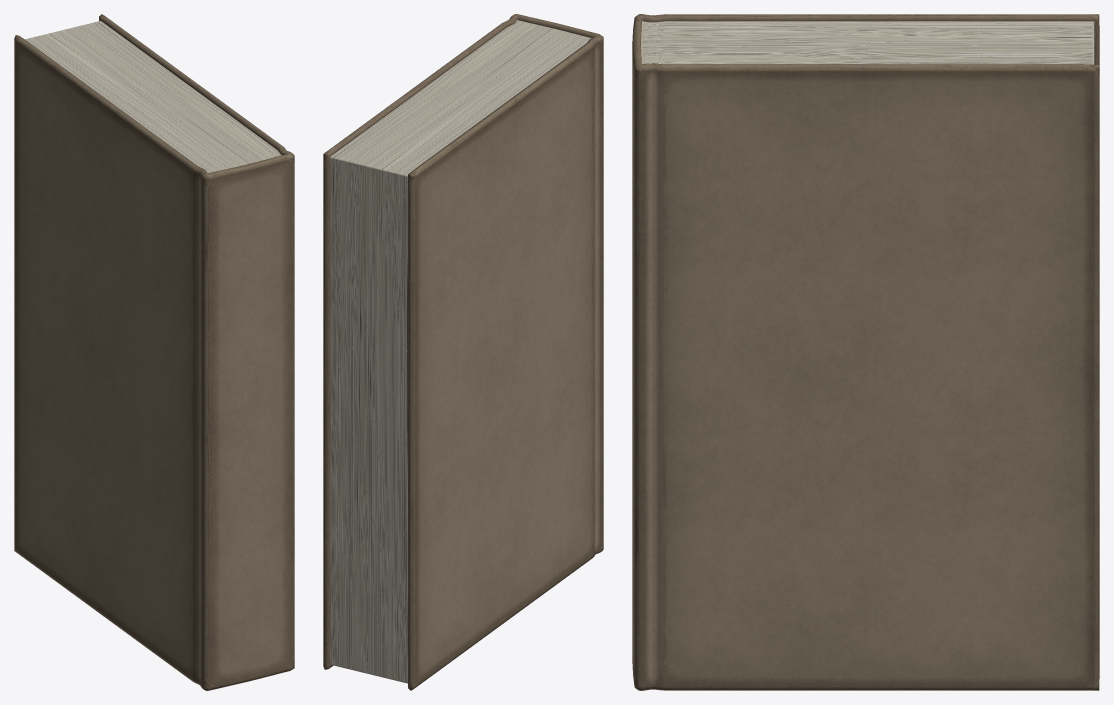
Rendered from SM_BookHardcover02.fbx.
3 renders of one model, left to right at view 1: azimuth 30°, elevation 25°; view 2: azimuth 150°, elevation 25°; view 3: azimuth 270°, elevation 25°, orthographic. The views are drawn at different scales.
Visible parts, largest first — view 1: SM_BookHardcover02; view 2: SM_BookHardcover02; view 3: SM_BookHardcover02.
Boxes of the visible parts, x1,y1,x2,y2 form: SM_BookHardcover02: (14, 14, 294, 690); SM_BookHardcover02: (323, 14, 603, 690); SM_BookHardcover02: (632, 14, 1099, 690).
Bounding box in the file's own units: 4.19 × 15.39 × 22.76.
